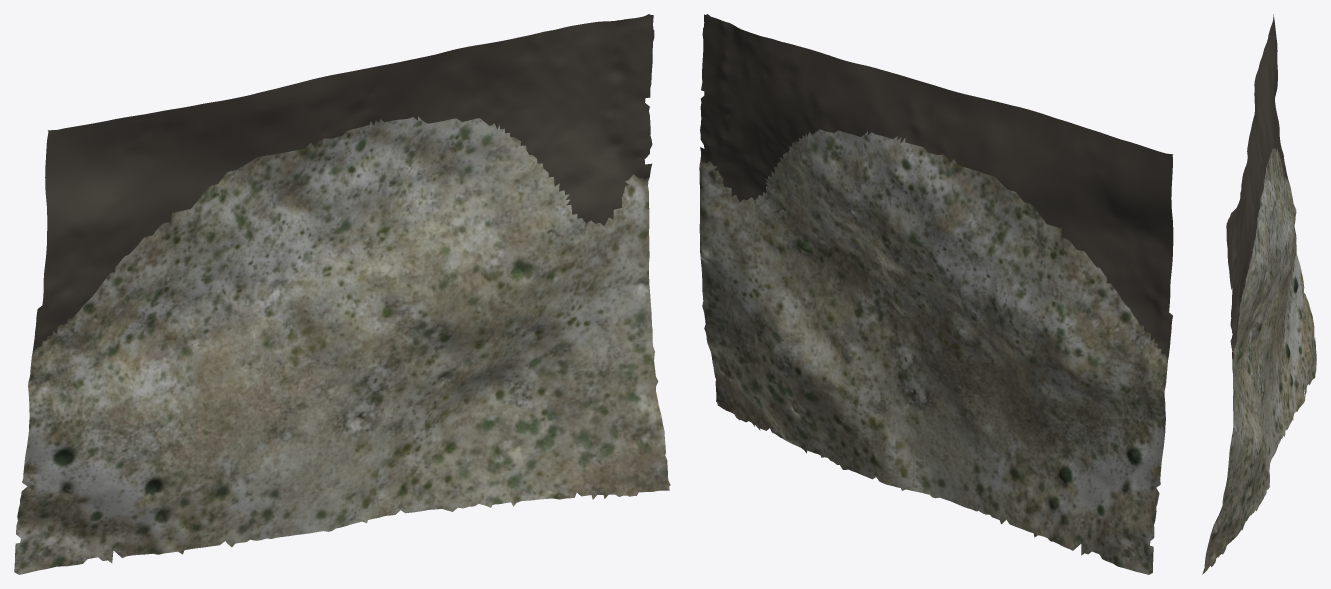
Rendered from tile_1.obj.
The picture shows the model from 3 angles, left to right: view 1: azimuth 30°, elevation 25°; view 2: azimuth 150°, elevation 25°; view 3: azimuth 270°, elevation 25°; orthographic projection. The views are drawn at different scales.
Bounding box in the file's own units: 2.07 × 1.6 × 0.4698.
1 material, 1 textured.
